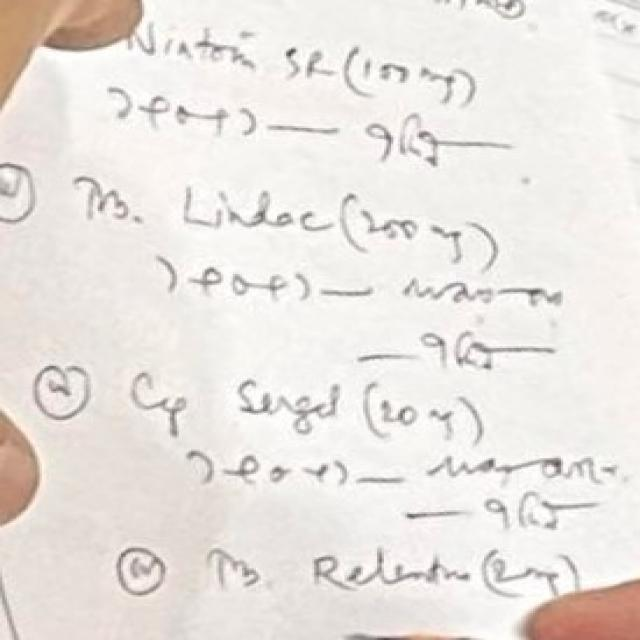Lindac: (161, 172, 337, 245)
Nintoin SR: (99, 13, 361, 93)
Relentus: (292, 540, 486, 601)
Sergel: (217, 367, 367, 446)
